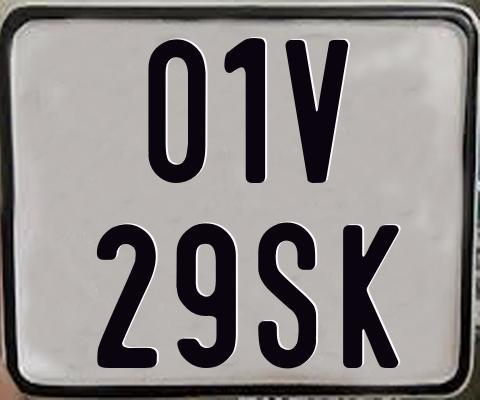0: (145, 37, 205, 187)
1: (221, 38, 263, 185)
2: (95, 222, 159, 371)
9: (175, 221, 236, 367)
K: (340, 225, 401, 372)
S: (256, 222, 318, 375)
V: (285, 38, 354, 182)
